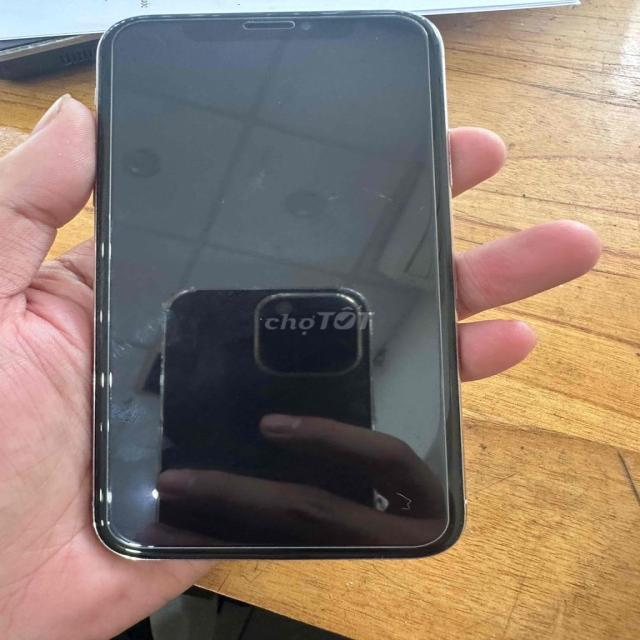gen_x_xs: (89, 11, 463, 559)
scratch: (103, 320, 170, 435), (352, 183, 432, 223), (132, 10, 403, 20), (372, 486, 431, 516), (93, 19, 152, 46), (312, 187, 356, 215), (412, 16, 438, 34)
